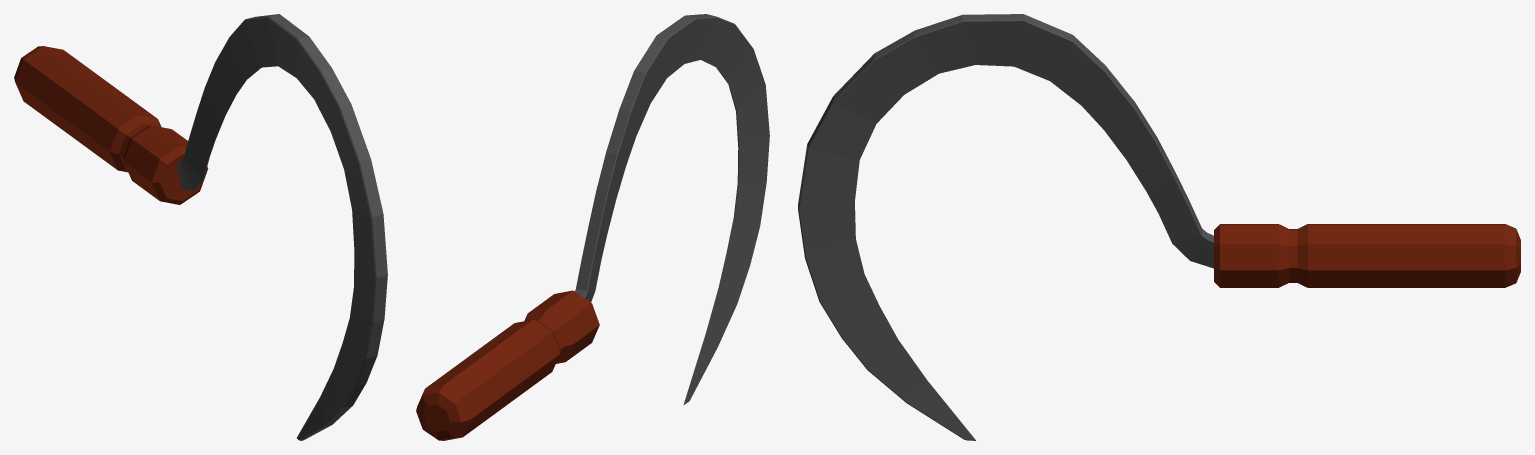
Rendered from HozRota.fbx.
3 views of the same model, side by side, from view 1: azimuth 30°, elevation 25°; view 2: azimuth 150°, elevation 25°; view 3: azimuth 270°, elevation 25° (orthographic). The views are drawn at different scales.
Visible parts, largest first — view 1: HozHojaRota, HozMangoRoto; view 2: HozHojaRota, HozMangoRoto; view 3: HozHojaRota, HozMangoRoto.
Boxes of the visible parts, <box> form: HozHojaRota: <box>180,14,387,440</box>; HozMangoRoto: <box>14,46,208,204</box>; HozHojaRota: <box>575,14,769,405</box>; HozMangoRoto: <box>416,290,599,440</box>; HozHojaRota: <box>798,14,1206,440</box>; HozMangoRoto: <box>1190,224,1520,287</box>.
Bounding box in the file's own units: 4.63 × 31.79 × 49.11.
